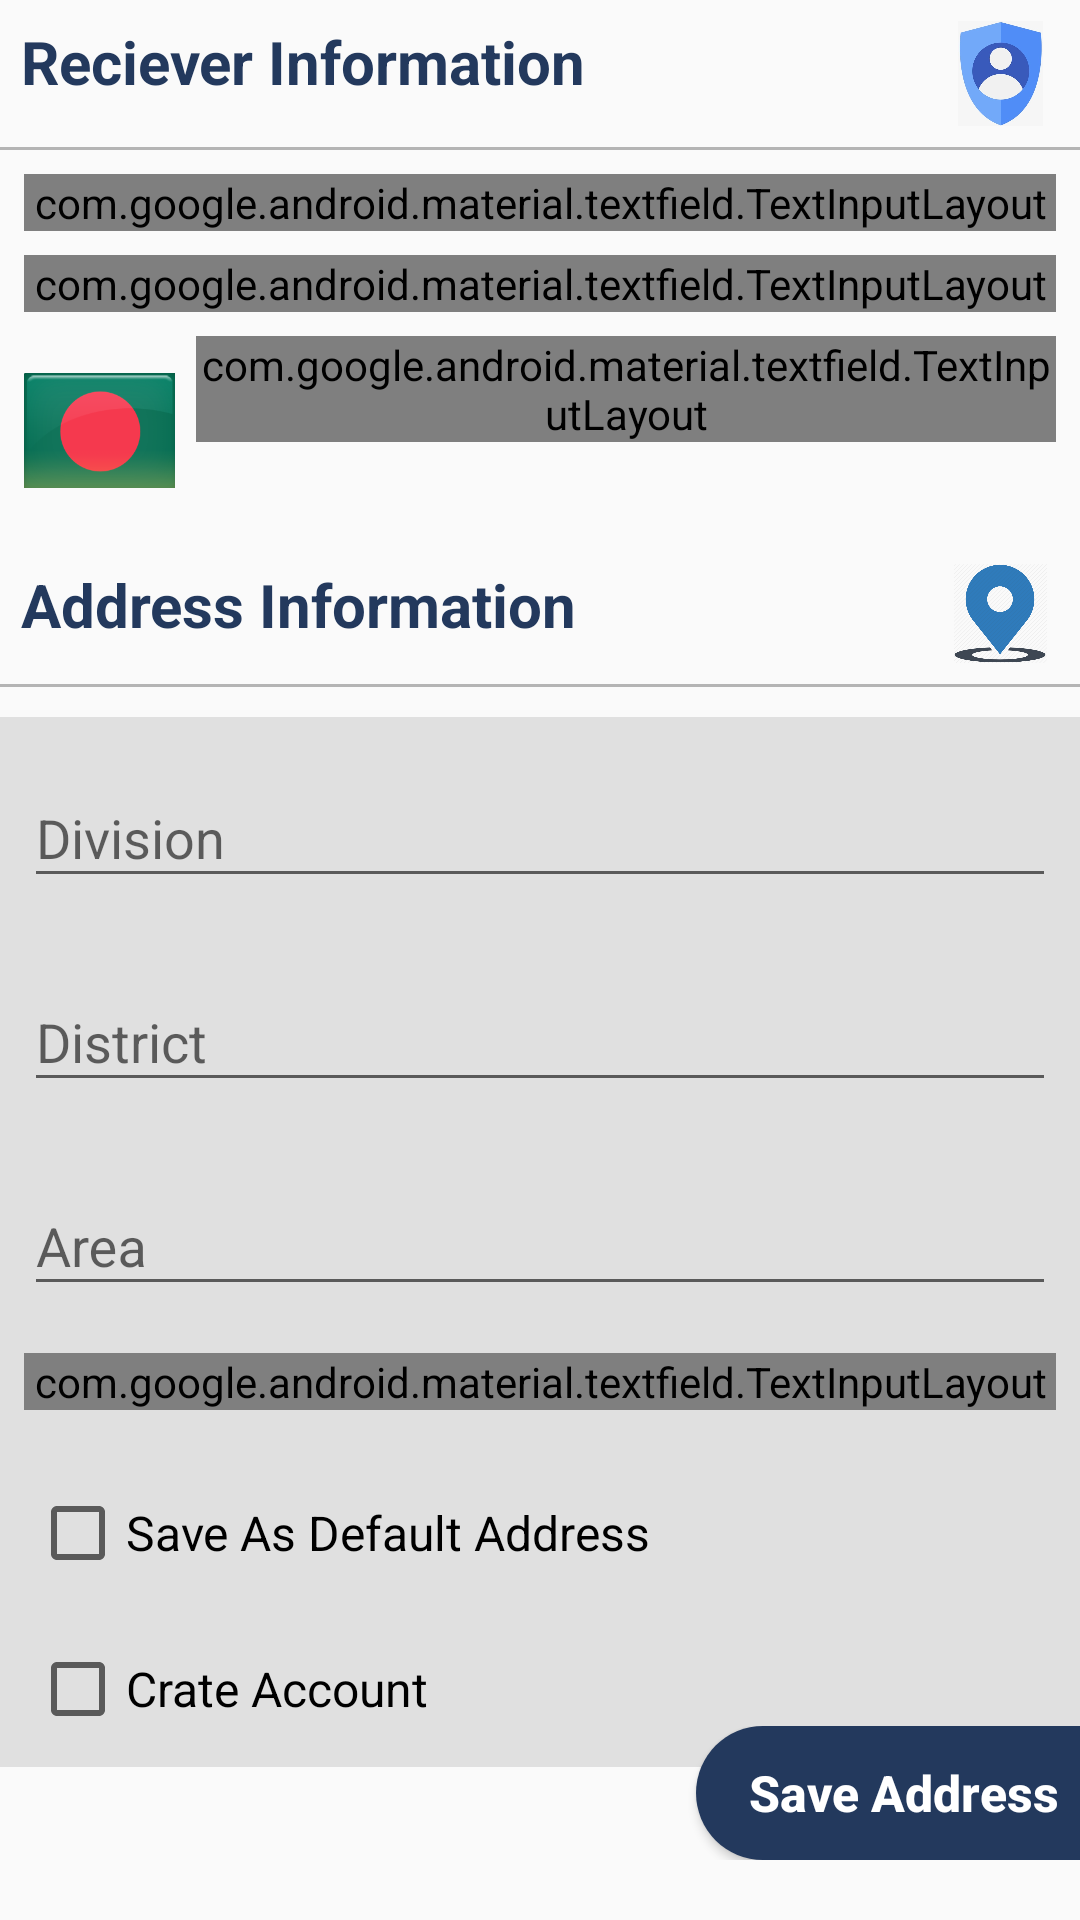

Locate icon controls on the screen. Image size 1080w x 1920h, boxes as (x1, y1, x2, y2).
bdflag: (24, 373, 175, 488)
location: (954, 565, 1046, 662)
